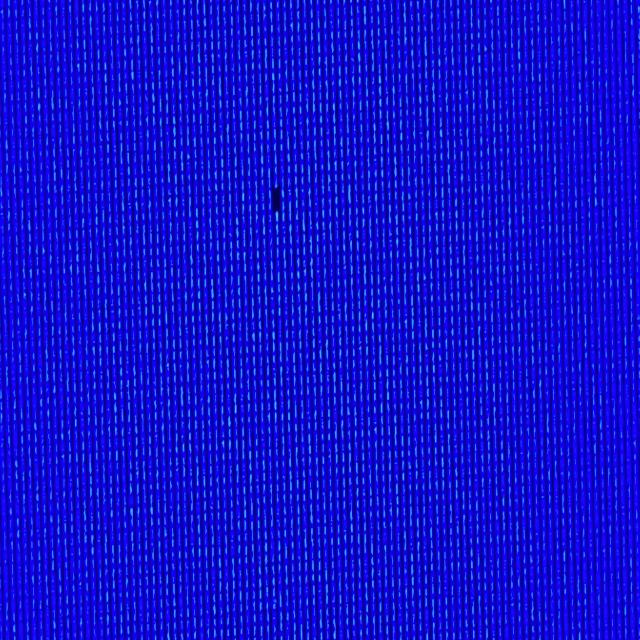Dead pixel: (272, 185, 282, 214)
